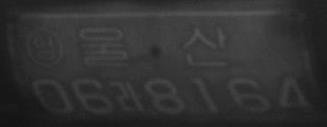0: (32, 76, 72, 117)
1: (188, 76, 222, 114)
4: (279, 75, 312, 115)
6: (226, 76, 270, 117), (72, 77, 113, 115)
8: (145, 78, 184, 114)
라: (113, 78, 145, 111)
영: (25, 26, 66, 70)
울산_D: (79, 24, 230, 68)
